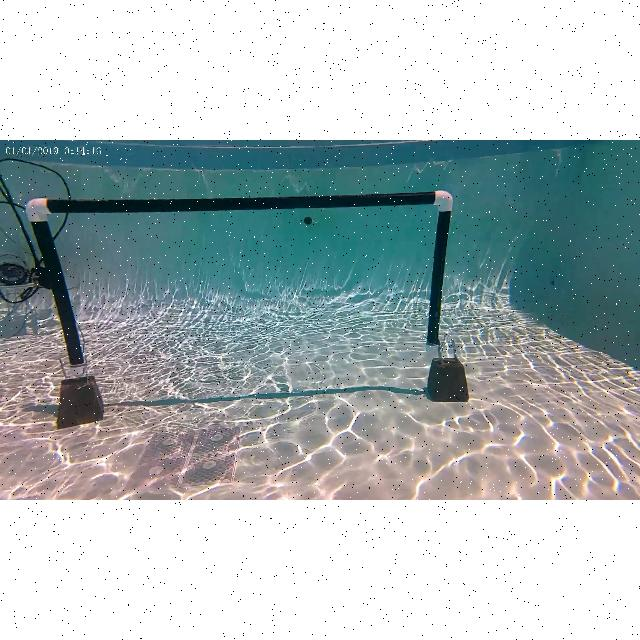prequal gate: (28, 190, 454, 380)
prequal gate leg l: (21, 195, 103, 389)
prequal gate leg r: (418, 183, 458, 369)
